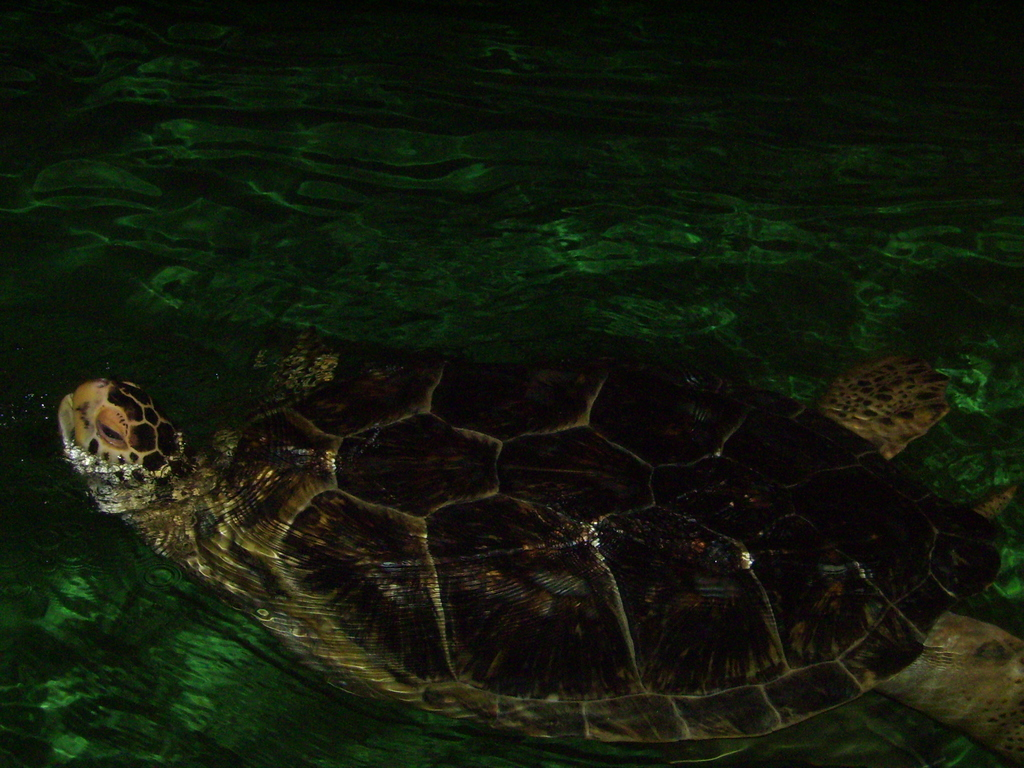Sea turtles: (57, 351, 1023, 767)
